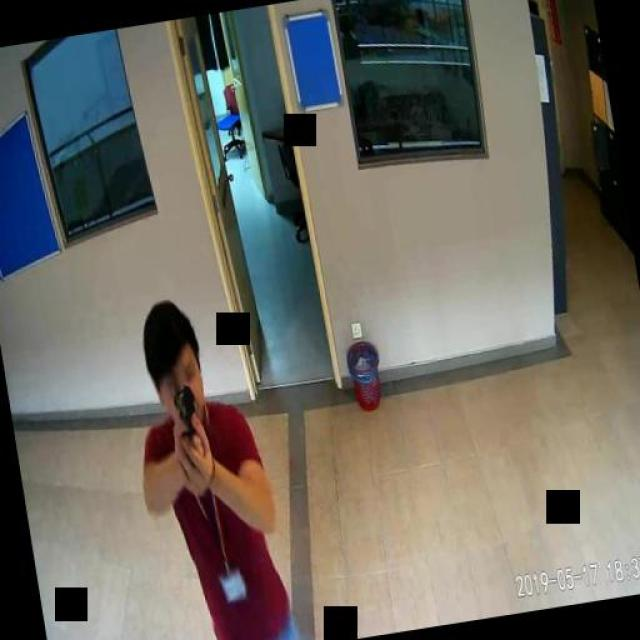gun: (168, 381, 204, 465)
